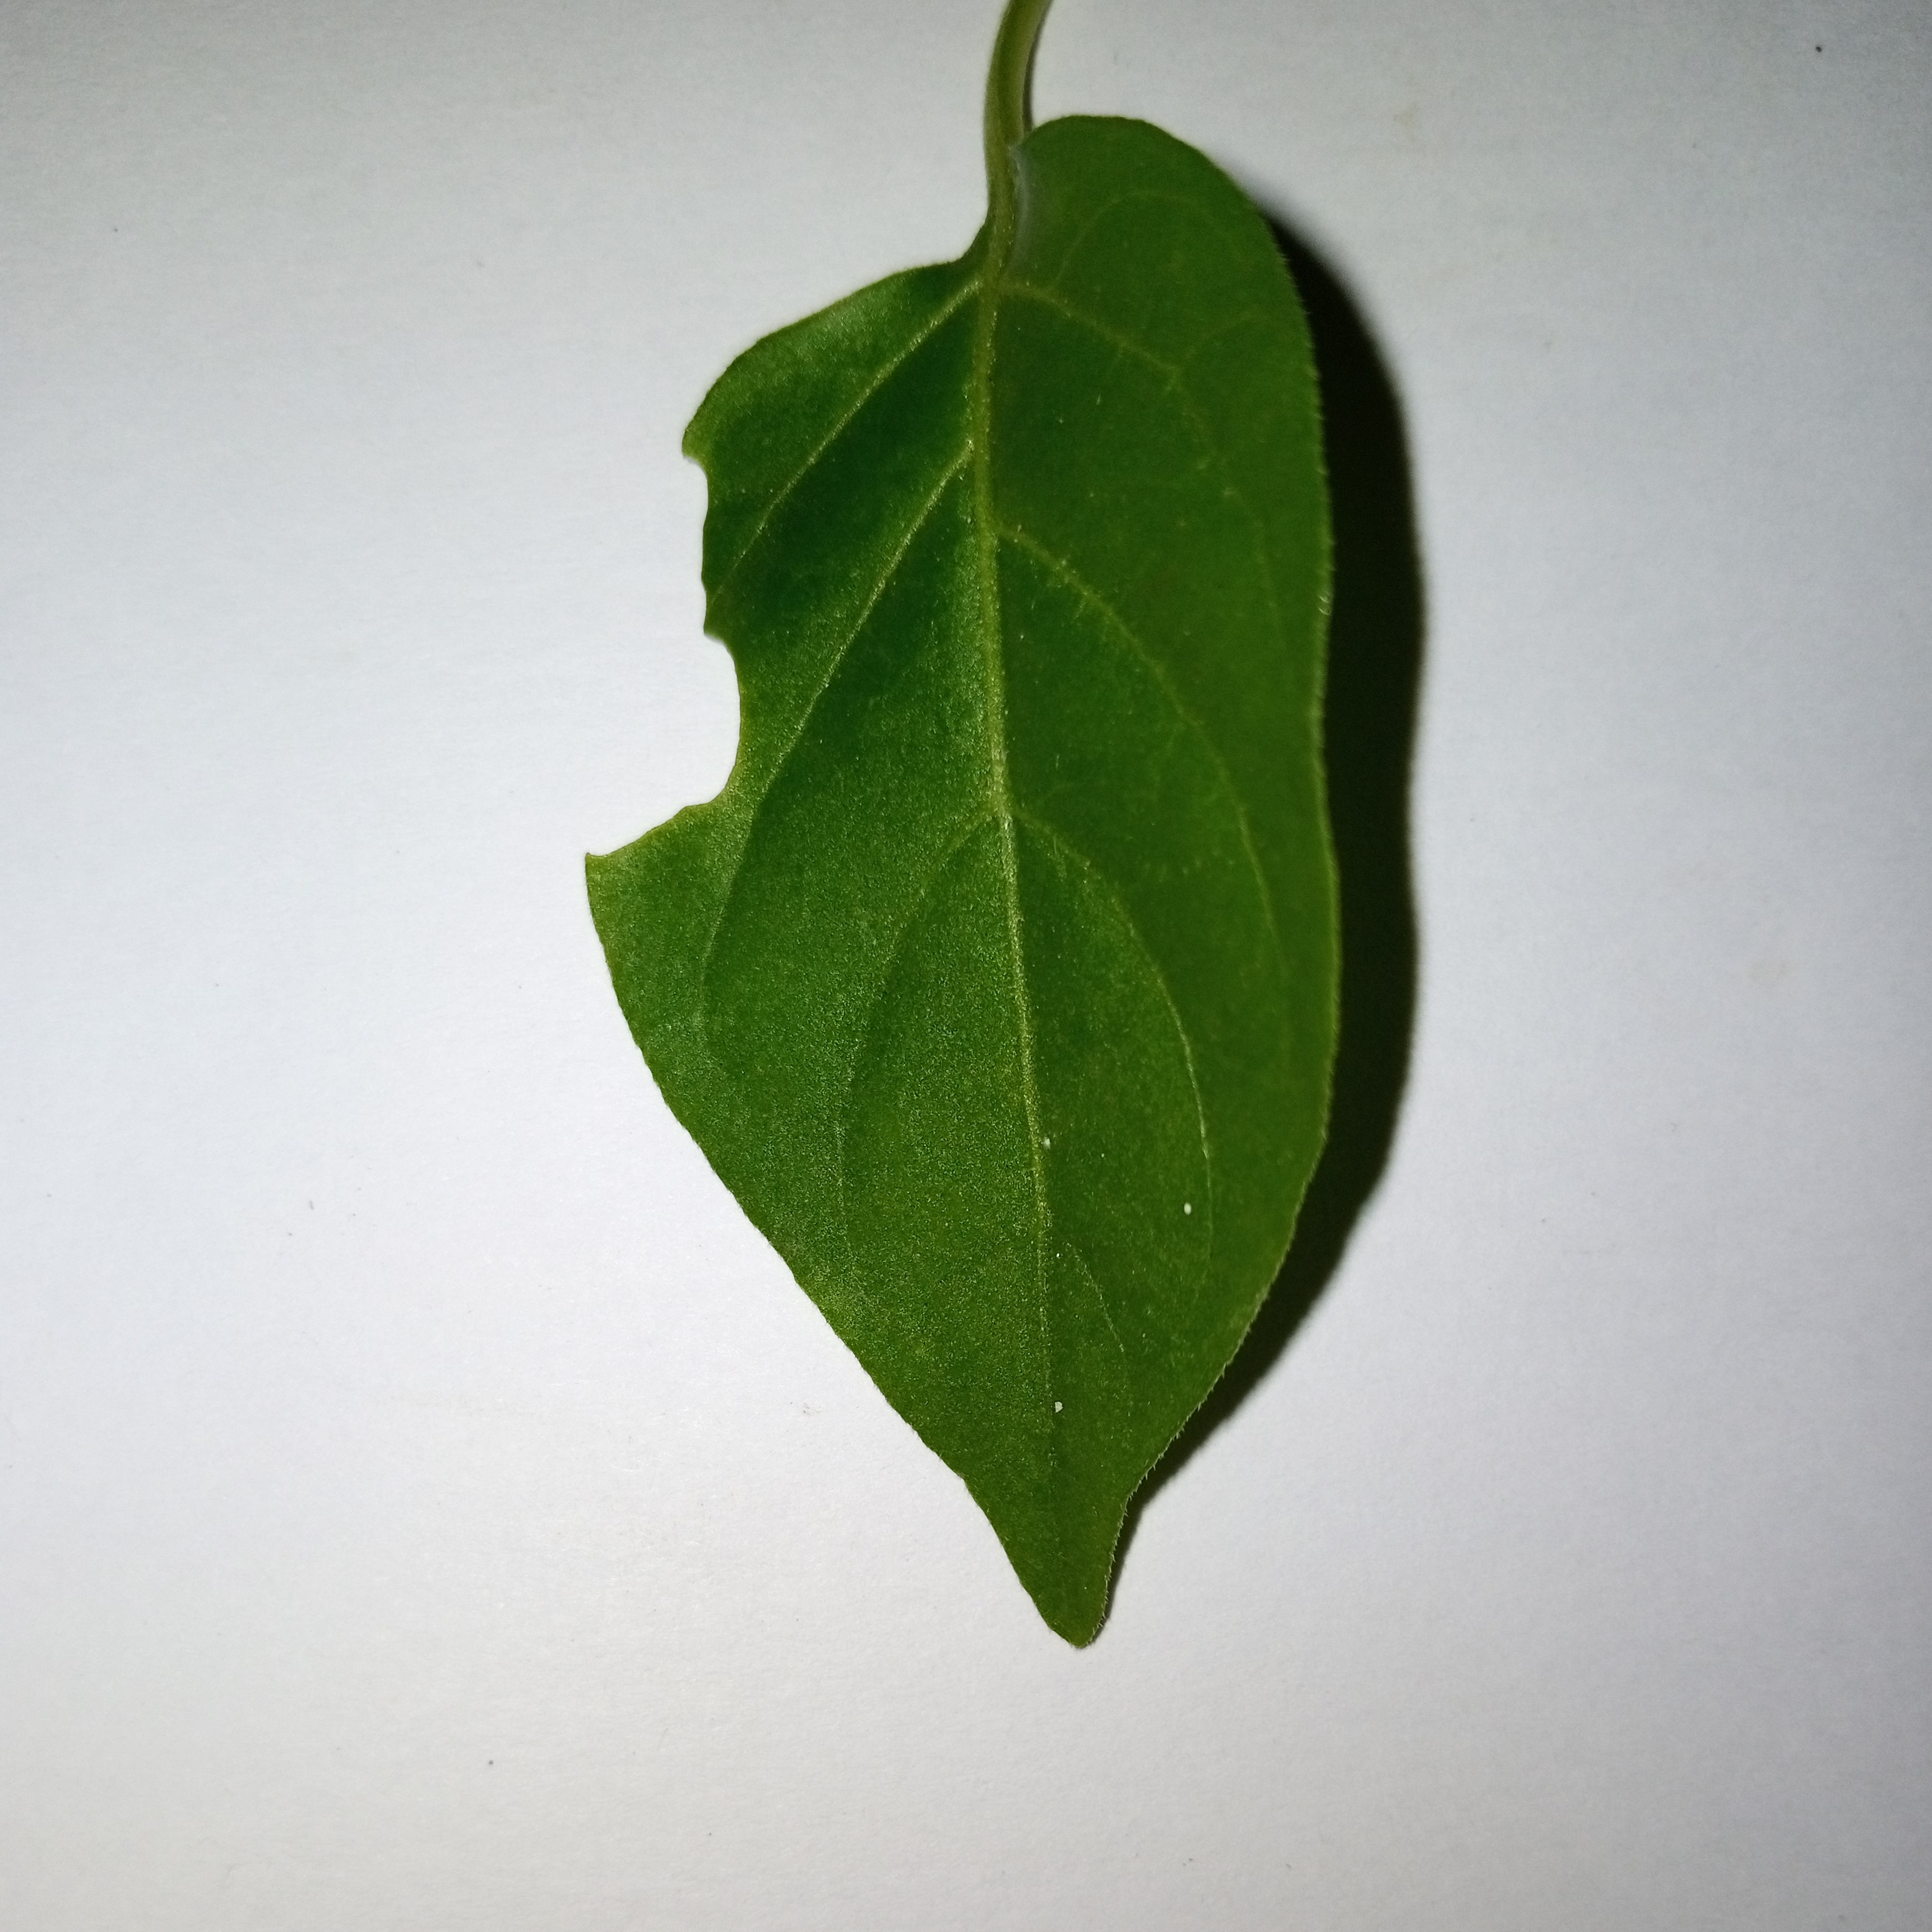Leaf: (410, 60, 1644, 1932)
